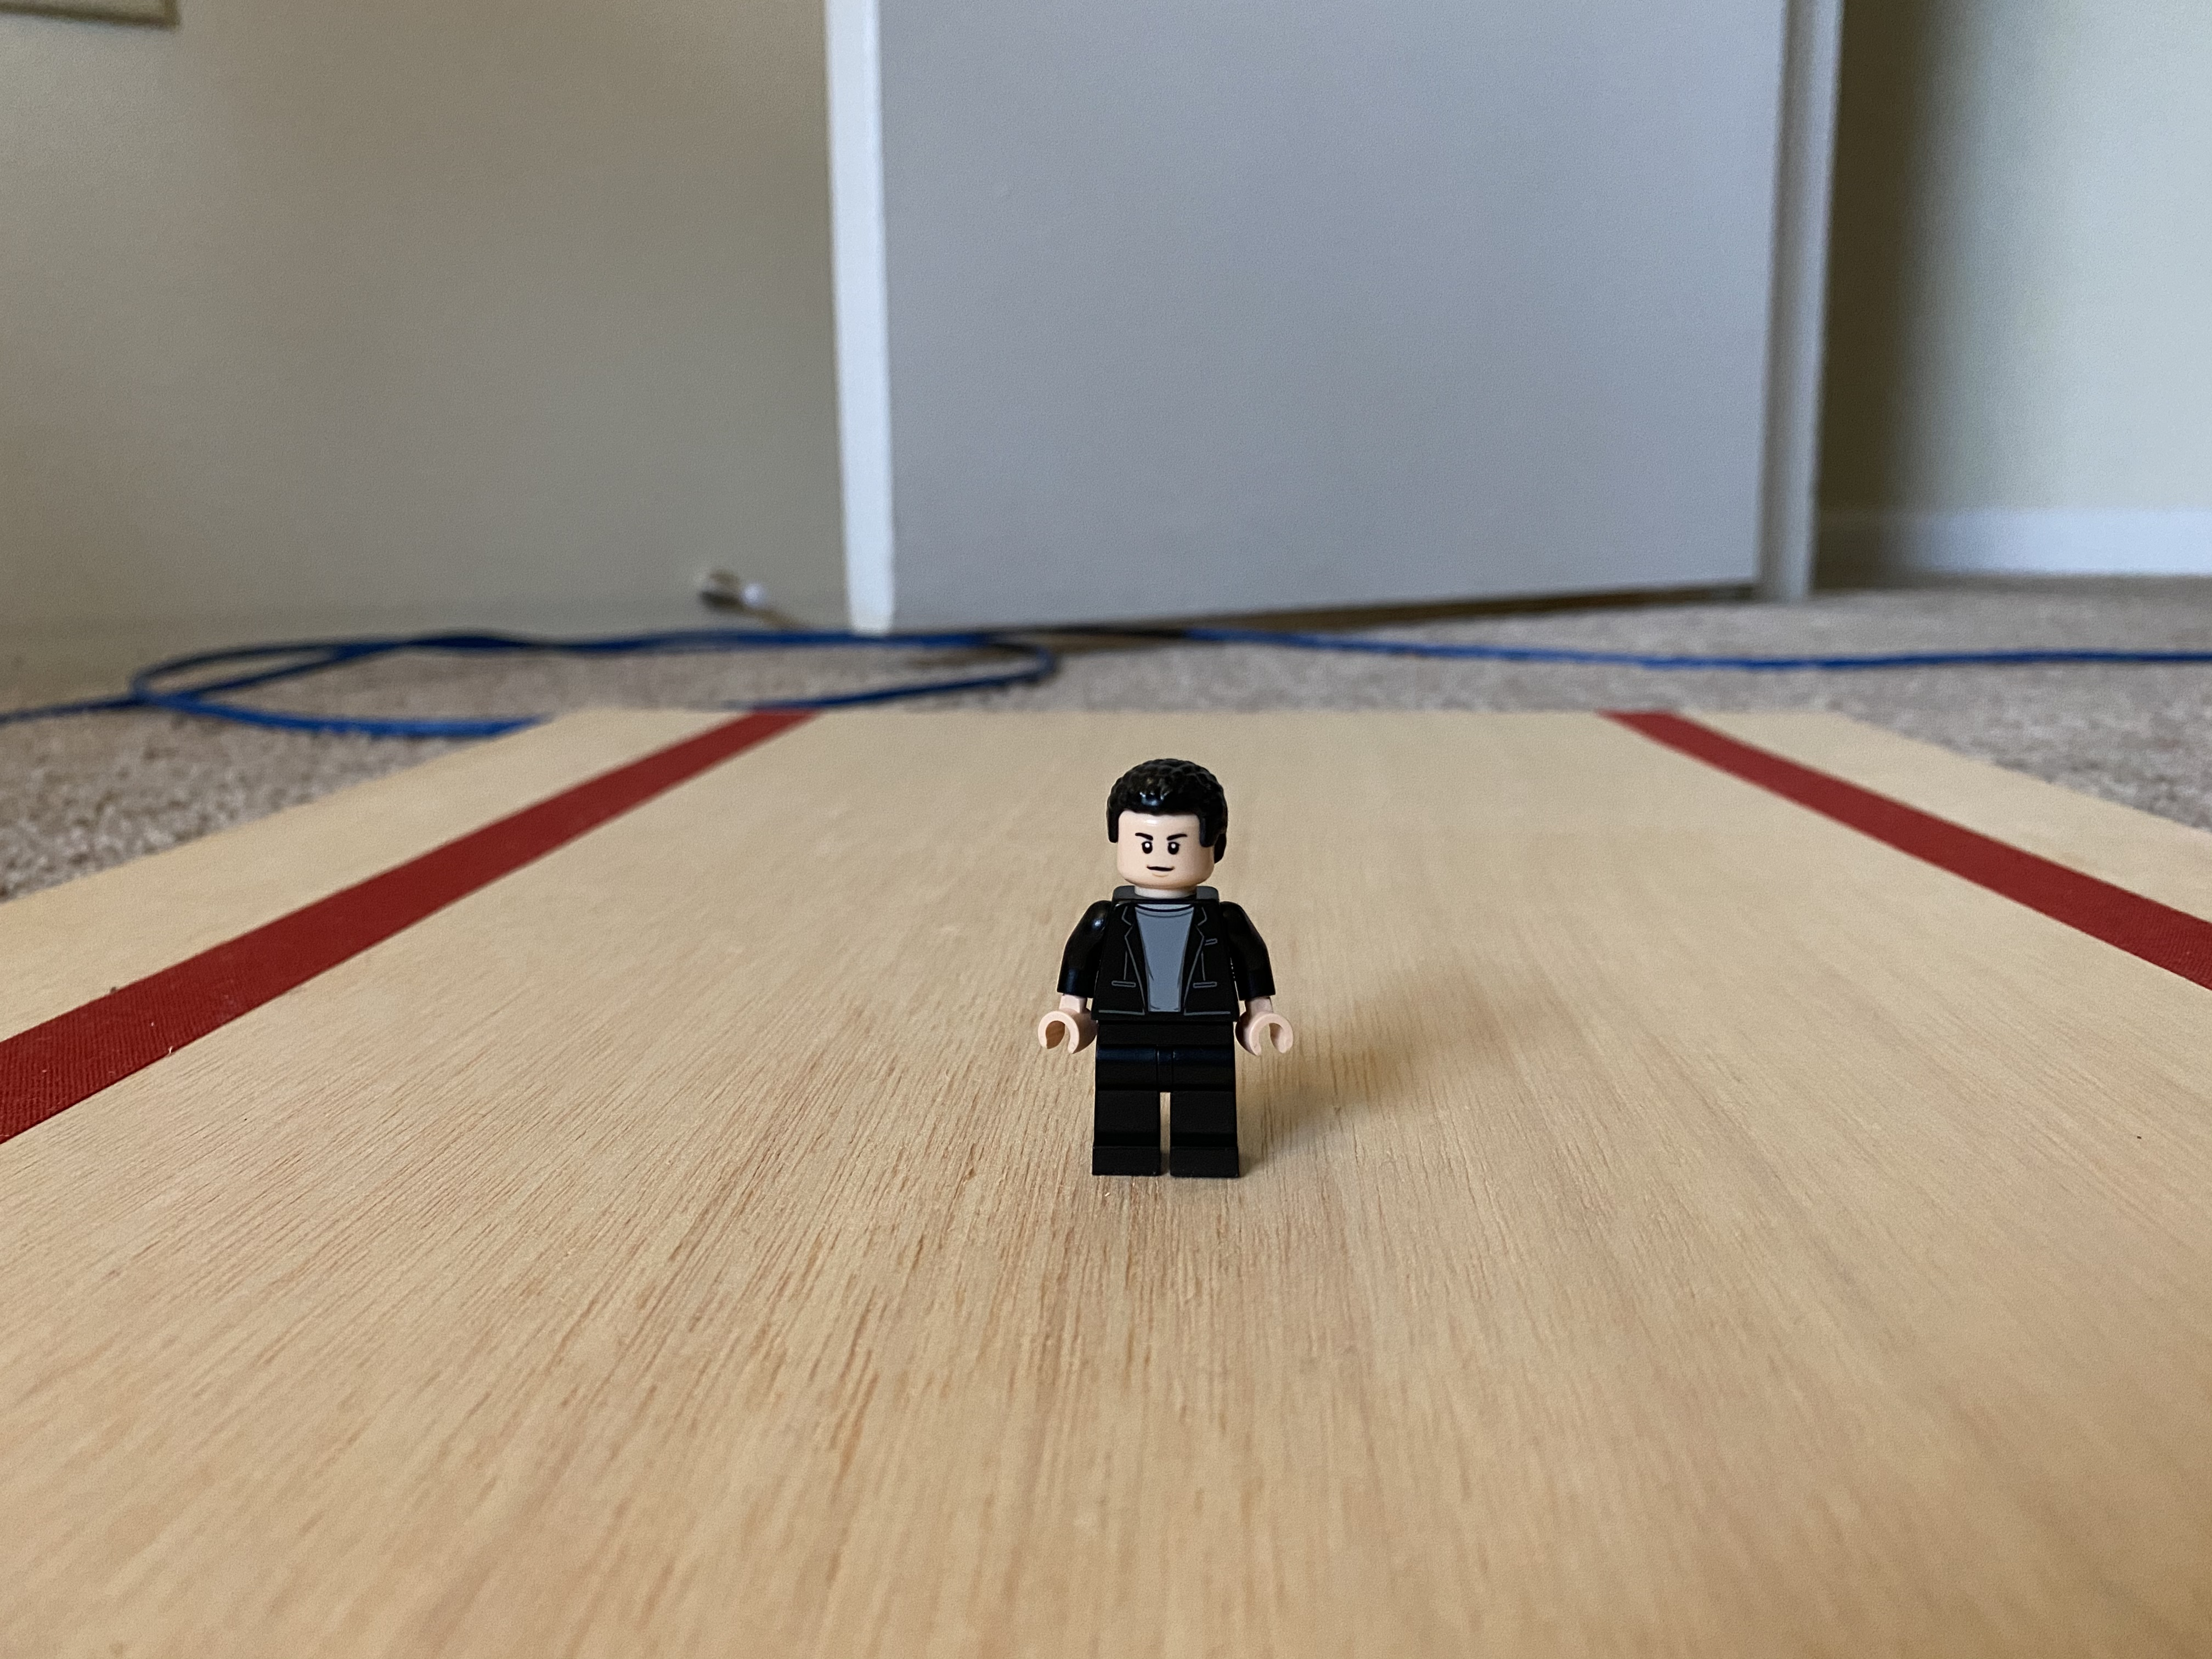Person: (1019, 733, 1325, 1214)
